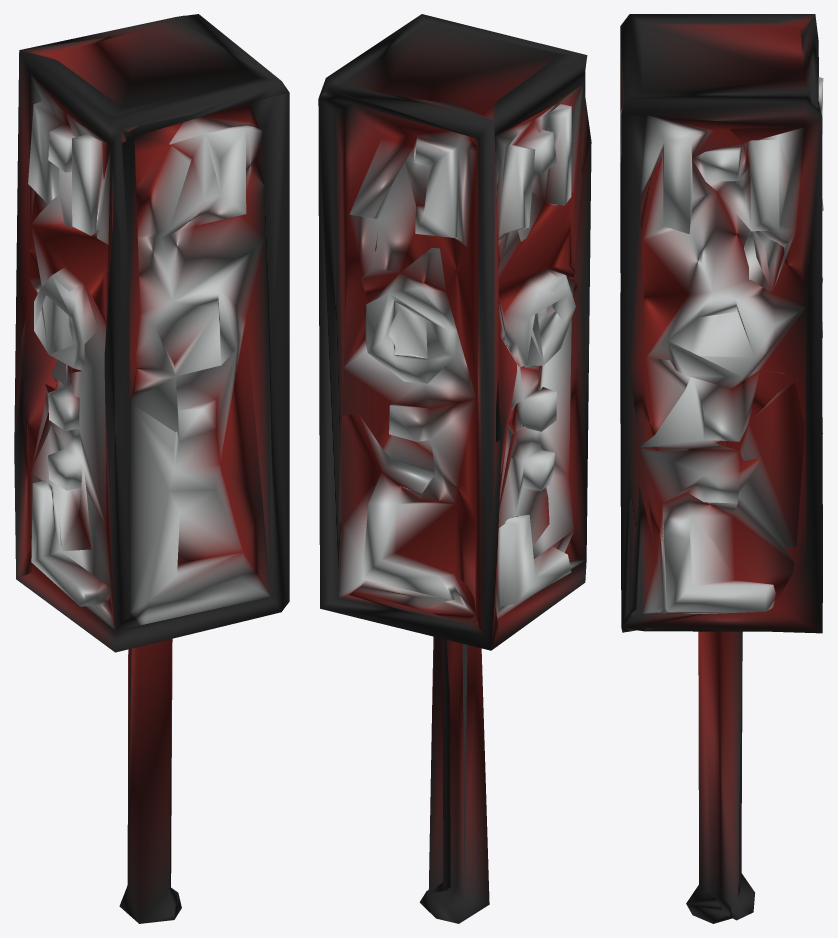
File: gen3d-hotel-sign-lod1.glb
3 views of the same model, side by side, from view 1: azimuth 30°, elevation 25°; view 2: azimuth 150°, elevation 25°; view 3: azimuth 270°, elevation 25° (orthographic).
Visible parts, largest first — view 1: part_0; view 2: part_0; view 3: part_0.
Part boxes in pixels (x1,y1,x2,y2): part_0: (14, 14, 289, 923); part_0: (318, 14, 591, 923); part_0: (620, 14, 823, 923).
Size of the model in its own units: 0.237 by 0.9962 by 0.2147.
